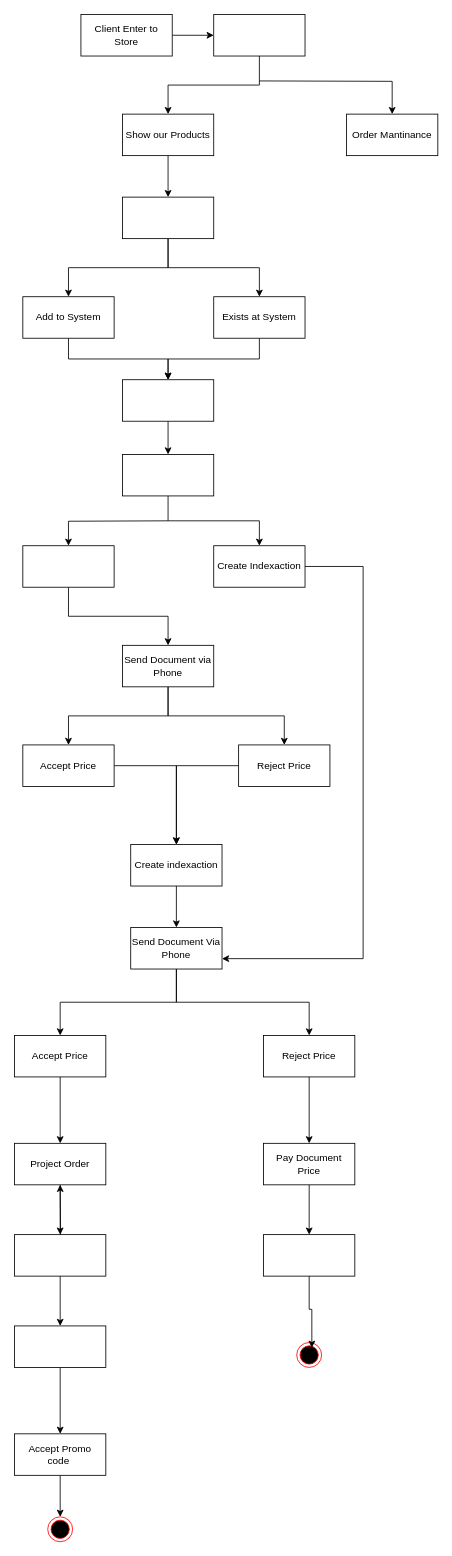
Some shapes in this 452 by 1556 pixel diagram are drawn without their labels. Each missing label, with the centre of its shape:
Added to System: (168,400)
Client Feedback: (60,1346)
Confirm Money Accepting: (309,1255)
Create Offer Price: (68,566)
Project Submission: (60,1255)
Search at client: (168,217)
Select Project Type: (168,475)
User Enter to System: (259,35)
